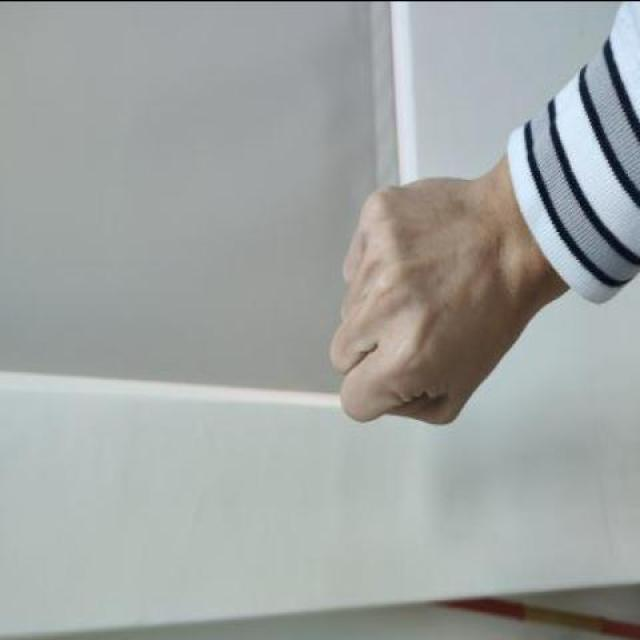Closed Hand: (314, 172, 522, 427)
